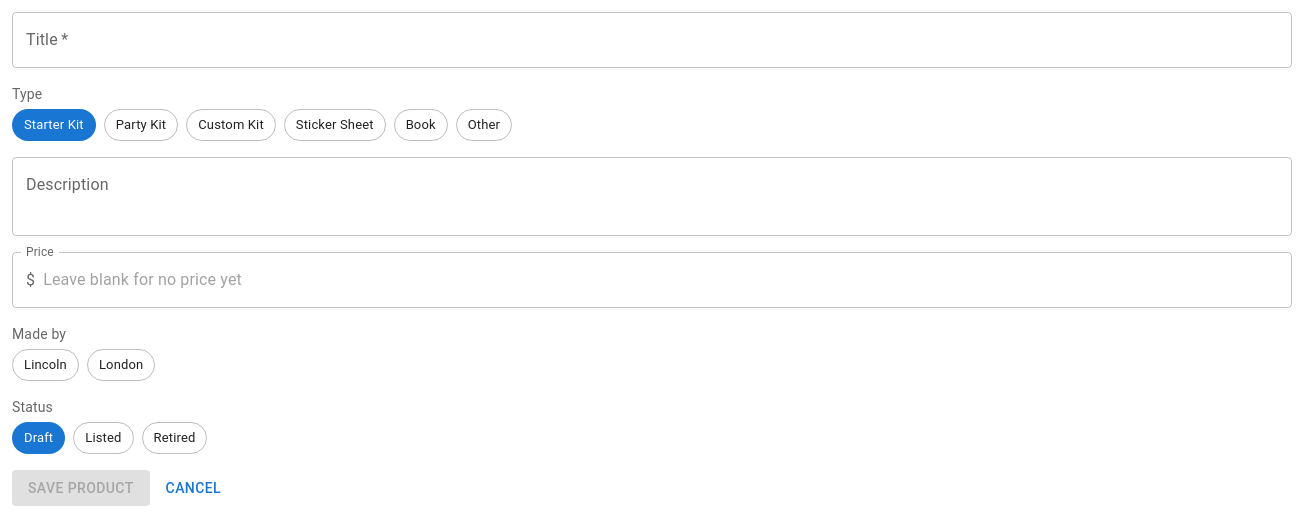
Test: CatalogProductForm › disables save until a title is entered
Expected: the button "Save product" is disabled, 12,470 -> 150,506
Step 1. Type "Seed Vault Kit" into the field labelled "Title *" → {"x": 652, "y": 40}, box 12,12 -> 1292,68
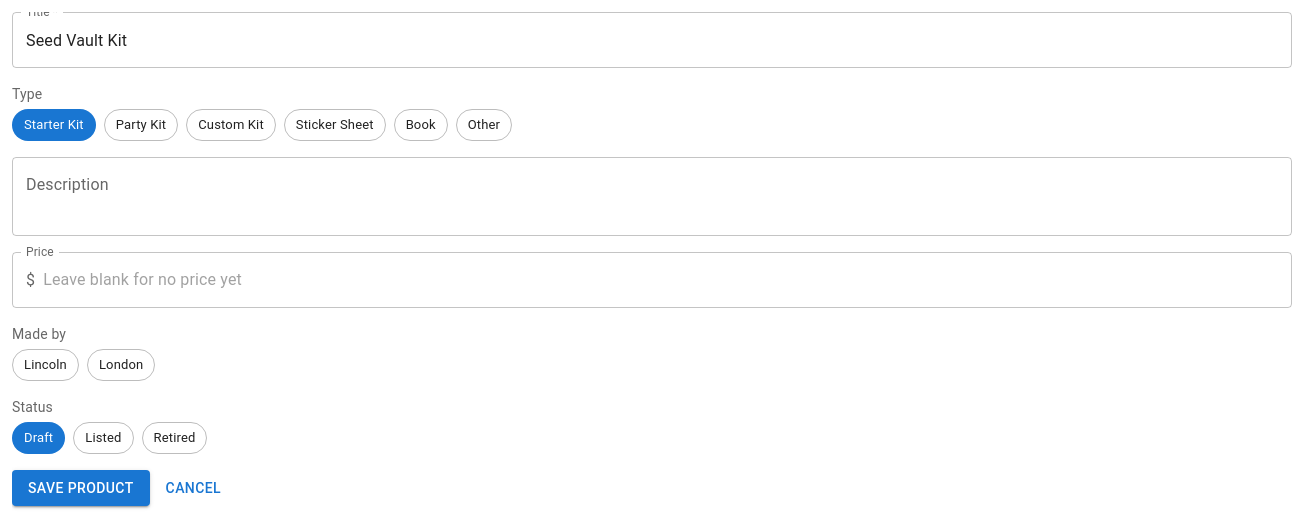
Expected: the button "Save product" is enabled, 12,470 -> 150,506
